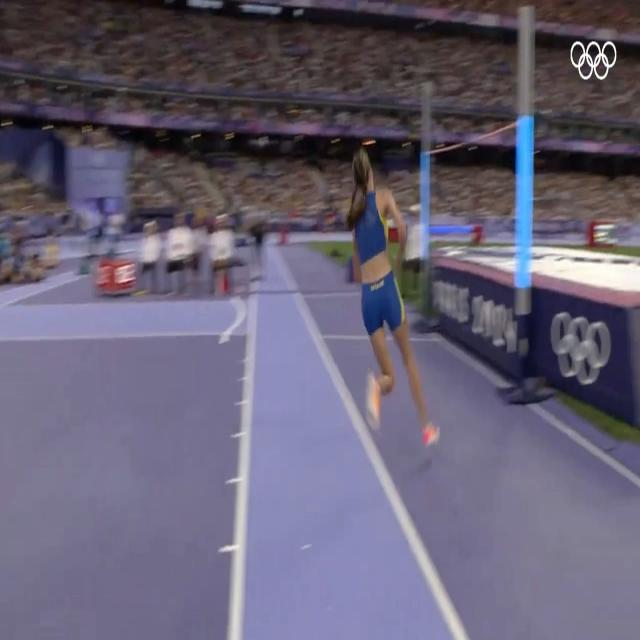run: (347, 144, 441, 446)
